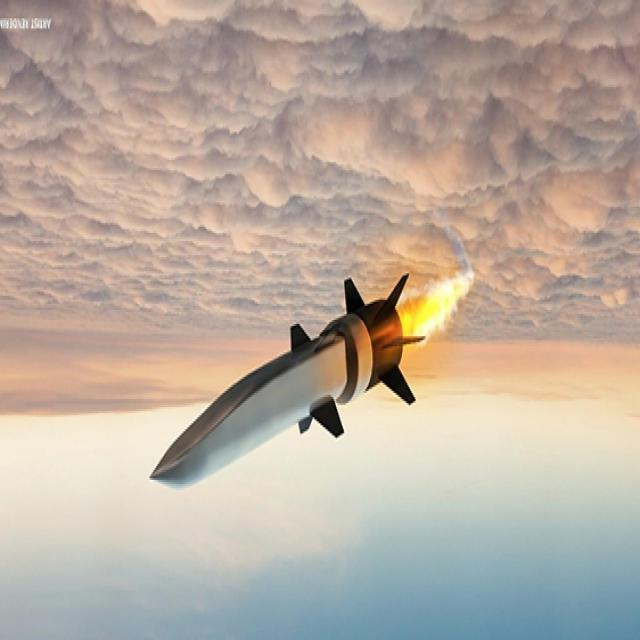Missile: (146, 266, 422, 493)
